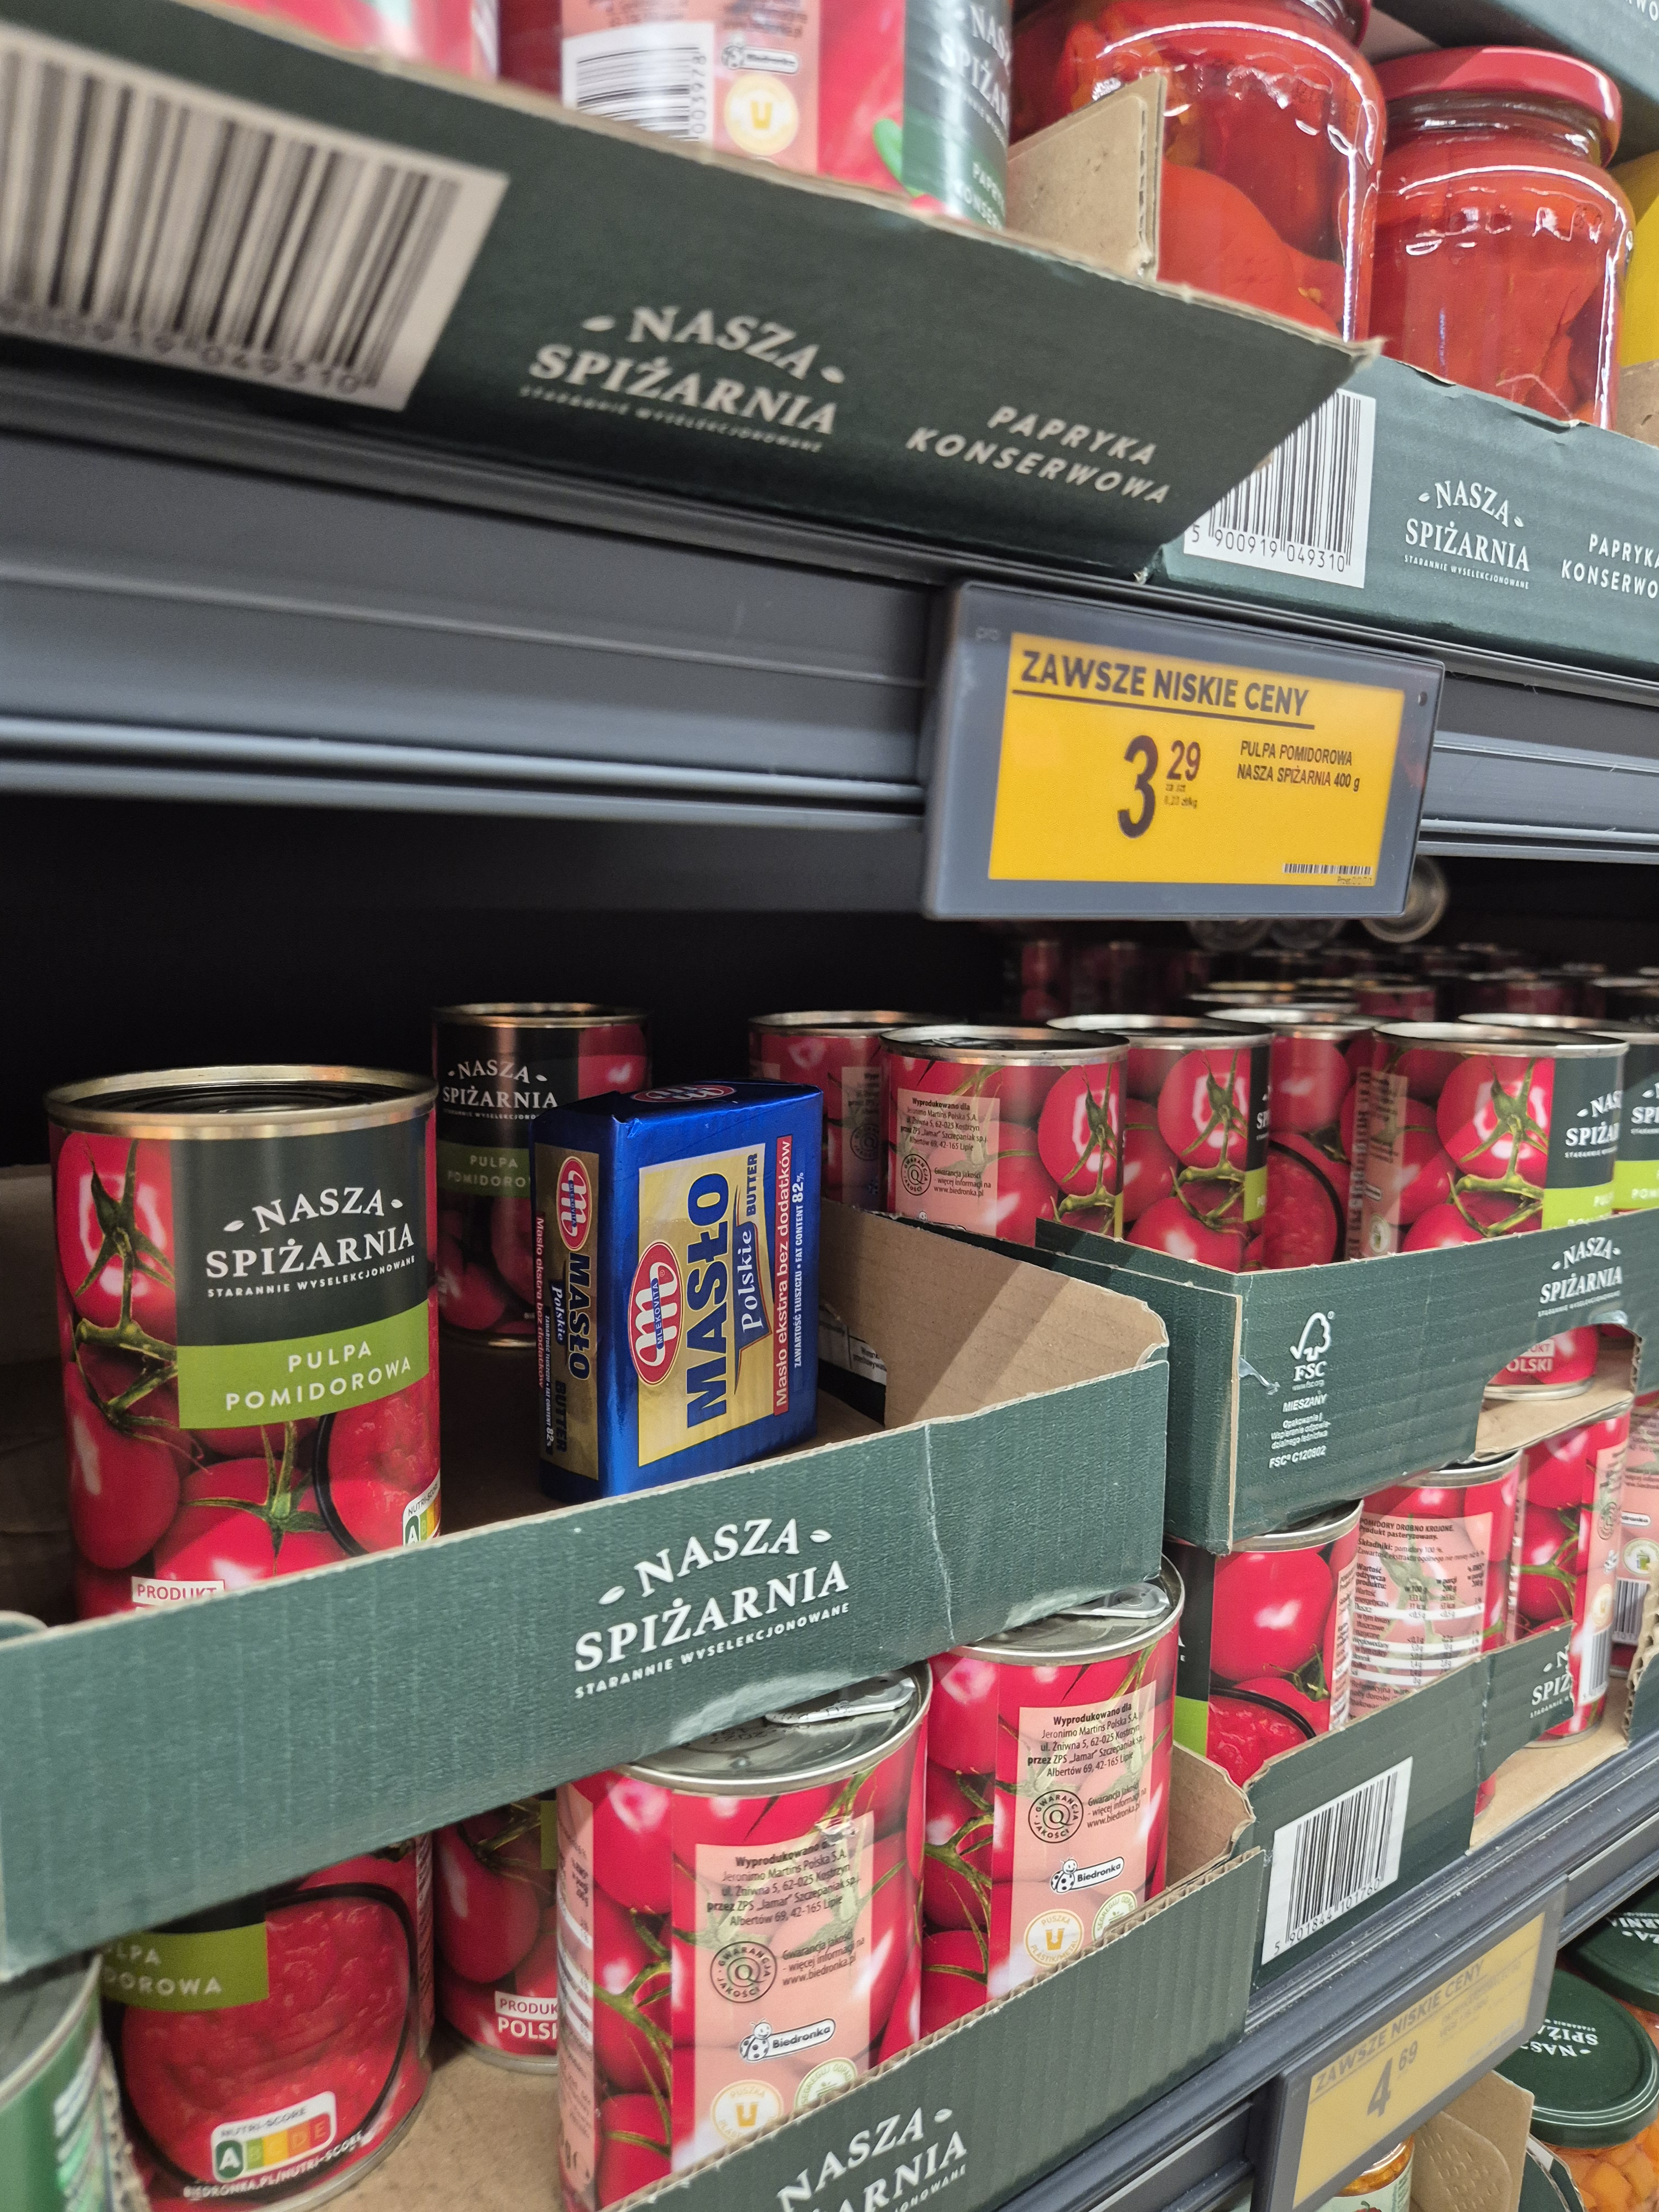Butter: (537, 1045, 861, 1507)
